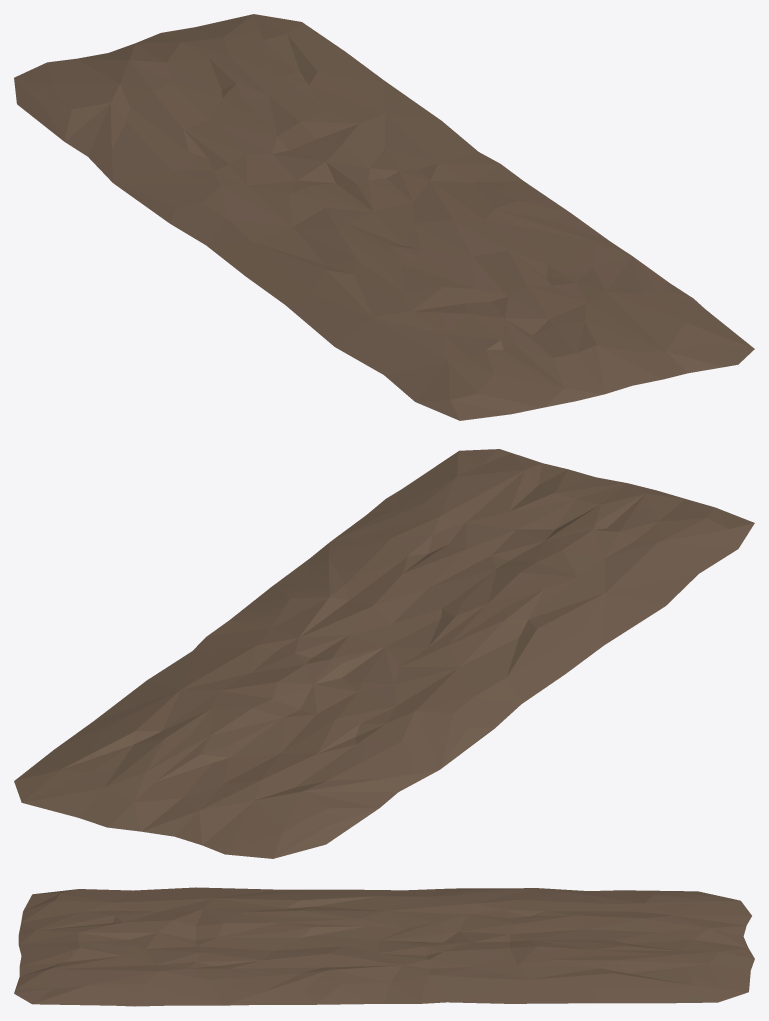
File: SM_Env_Road_Dirt_Straight_01.glb
The picture shows the model from 3 angles, top to bottom: view 1: azimuth 30°, elevation 25°; view 2: azimuth 150°, elevation 25°; view 3: azimuth 270°, elevation 25°; orthographic projection. The views are drawn at different scales.
Visible parts, largest first — view 1: SM_Env_Road_Dirt_Straight_01; view 2: SM_Env_Road_Dirt_Straight_01; view 3: SM_Env_Road_Dirt_Straight_01.
Boxes of the visible parts, x1,y1,x2,y2 form: SM_Env_Road_Dirt_Straight_01: (14,14,754,420); SM_Env_Road_Dirt_Straight_01: (14,449,754,858); SM_Env_Road_Dirt_Straight_01: (14,887,754,1006).
Bounding box in the file's own units: 440 × 20.37 × 1159.
Materials: 1 (1 with a texture image).
